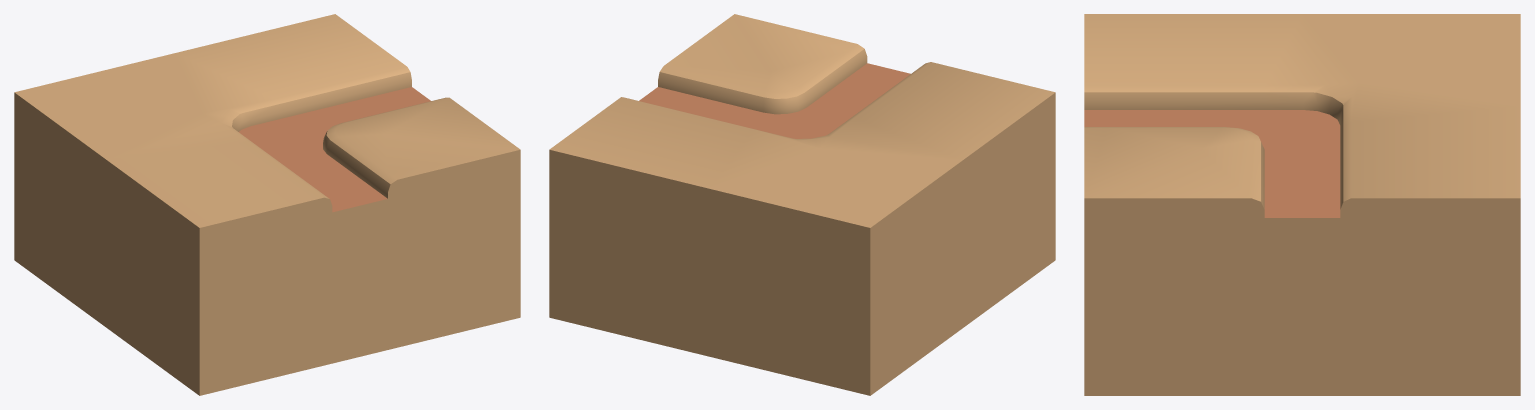
Rendered from kaykit-square-sand-roadc.glb.
The picture shows the model from 3 angles, left to right: view 1: azimuth 30°, elevation 25°; view 2: azimuth 150°, elevation 25°; view 3: azimuth 270°, elevation 25°; orthographic projection. The views are drawn at different scales.
Parts seen in each view (by area): view 1: square_sand_roadC; view 2: square_sand_roadC; view 3: square_sand_roadC.
Boxes of the visible parts, left/top/right/bottom form: square_sand_roadC: left=14, top=14, right=520, bottom=395; square_sand_roadC: left=549, top=14, right=1055, bottom=395; square_sand_roadC: left=1084, top=14, right=1520, bottom=395.
Bounding box in the file's own units: 2 × 0.9998 × 2.
